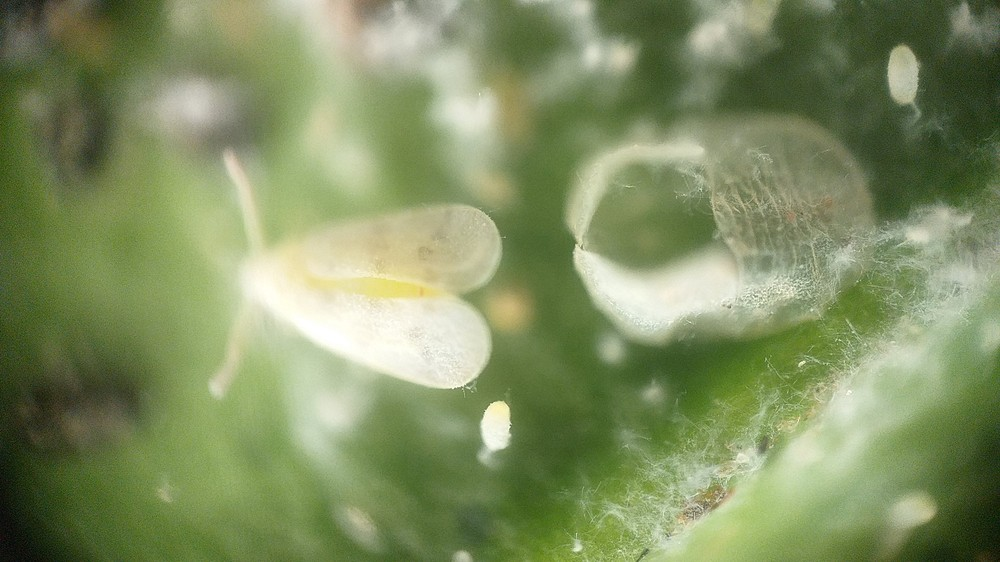Mosca Blanca: (166, 127, 530, 442)
